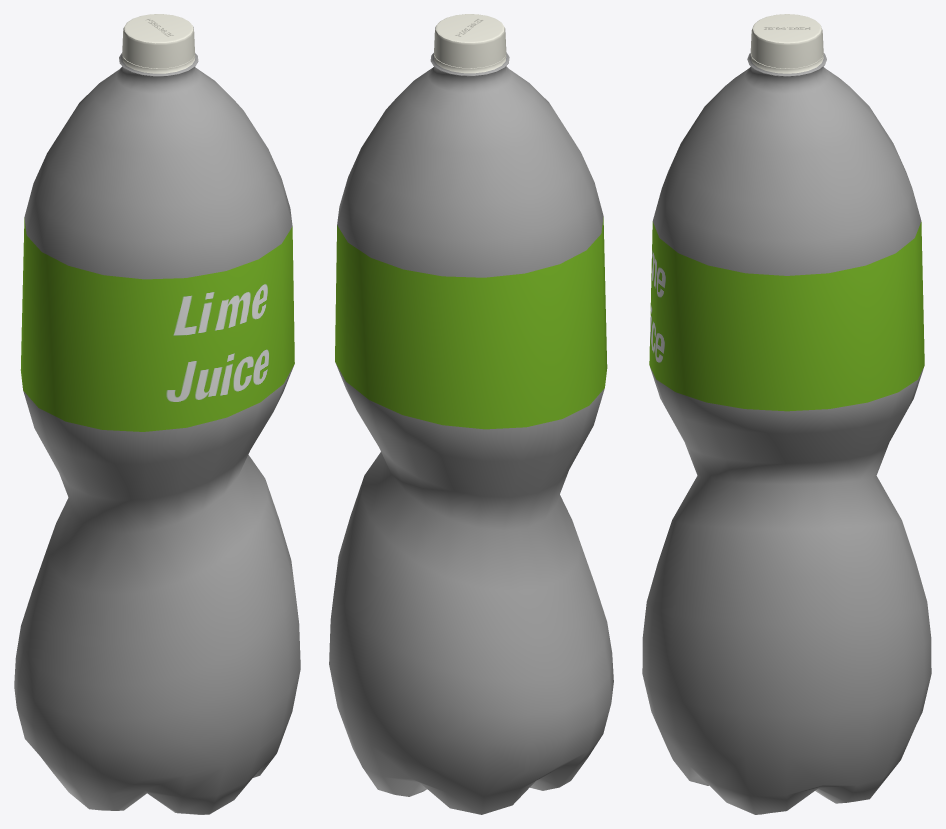
The model's file is Juice Bottle.fbx.
3 renders of one model, left to right at view 1: azimuth 30°, elevation 25°; view 2: azimuth 150°, elevation 25°; view 3: azimuth 270°, elevation 25°, orthographic.
Visible parts, largest first — view 1: Juice_Bottle; view 2: Juice_Bottle; view 3: Juice_Bottle.
Part boxes in pixels (box(x1,y1,x2,y2)): Juice_Bottle: box(14, 14, 300, 814); Juice_Bottle: box(329, 14, 613, 814); Juice_Bottle: box(642, 14, 931, 814).
Bounding box in the file's own units: 1.17 × 3.39 × 1.18.
2 materials, 1 textured.
